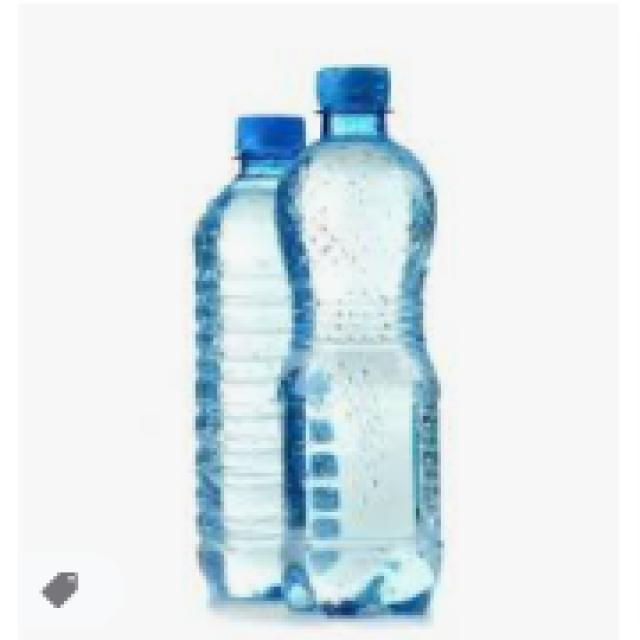plasticbottlecap: (302, 50, 404, 124), (214, 110, 320, 174)
